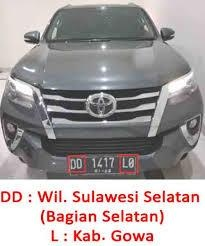plate: (70, 156, 137, 174)
